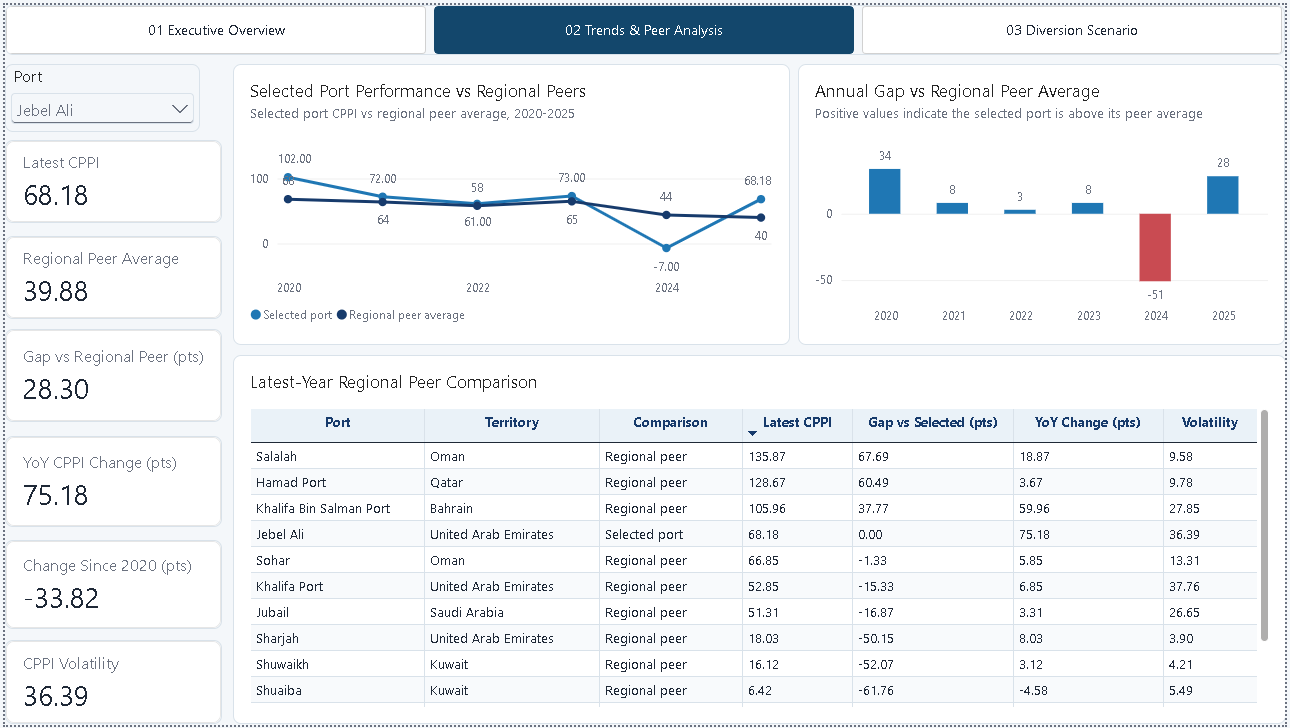

The page's visual inventory and layout, read from the dashboard file:
{"tool":"powerbi","page":{"name":"02 Trends & Peer Analysis","canvas":[1280,720],"ordinal":3},"visuals":[{"type":"slicer","fields":{"Values":["dim_Port.Port"]},"box":[0,59.3,195.3,67.4],"z":0},{"type":"lineChart","title":"Selected Port Performance vs Regional Peers","fields":{"Category":["dim_Year.Year"],"Y":["Calculations.CPPI Score","Calculations.Regional Peer CPPI by Year"]},"box":[227.6,59.2,557.1,280.6],"z":1000},{"type":"cardVisual","fields":{"Data":["Calculations.Latest CPPI"]},"box":[0,134.7,217.3,83.7],"z":2000},{"type":"cardVisual","fields":{"Data":["Calculations.Regional Peer Average"]},"box":[0,230.6,217.3,83.7],"z":3000},{"type":"cardVisual","fields":{"Data":["Calculations.Gap vs Regional Peer"]},"box":[0,324.5,217.3,92.9],"z":4000},{"type":"cardVisual","fields":{"Data":["Calculations.YoY CPPI Change"]},"box":[0,430.6,217.3,91.8],"z":5000},{"type":"cardVisual","fields":{"Data":["Calculations.Change Since 2020"]},"box":[0,534.7,217.3,89.8],"z":6000},{"type":"cardVisual","fields":{"Data":["Calculations.CPPI Volatility"]},"box":[0,634.7,217.3,84.7],"z":7000},{"type":"clusteredColumnChart","title":"Annual Gap vs Regional Peer Average","fields":{"Category":["dim_Year.Year"],"Y":["Calculations.Peer Gap by Year"]},"box":[793,59.3,487.2,280.2],"z":8000},{"type":"tableEx","title":"Latest-Year Regional Peer Comparison","fields":{"Values":["Peer Port Comparison.Port","Peer Port Comparison.Territory","Calculations.Peer Comparison Type","Calculations.Peer Latest CPPI","Calculations.Peer Gap vs Selected Port","Calculations.Peer YoY Change","Calculations.Peer Volatility"]},"box":[227.6,350,1053.1,369.4],"z":9000},{"type":"pageNavigator","box":[0,0,1280.2,50],"z":10000}]}

Visuals, with their boxes in screenshot pixels (x1, y1, x2, y2), scaled from the page's 1280x720 canvas onto the 1290x728 screenshot:
slicer - dim_Port.Port: 0:60:197:128
"Selected Port Performance vs Regional Peers" lineChart: 229:60:791:344
cardVisual - Calculations.Latest CPPI: 0:136:219:221
cardVisual - Calculations.Regional Peer Average: 0:233:219:318
cardVisual - Calculations.Gap vs Regional Peer: 0:328:219:422
cardVisual - Calculations.YoY CPPI Change: 0:435:219:528
cardVisual - Calculations.Change Since 2020: 0:541:219:631
cardVisual - Calculations.CPPI Volatility: 0:642:219:727
"Annual Gap vs Regional Peer Average" clusteredColumnChart: 799:60:1289:343
"Latest-Year Regional Peer Comparison" tableEx: 229:354:1289:727
pageNavigator: 0:0:1289:51
